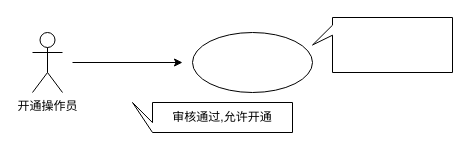
Some shapes in this 470 by 150 pixel diagram are drawn without their labels. Each missing label, with the box of its shape:
审核企业注册材料: (192, 32, 312, 92)
隆庆堂中医股份: (312, 16, 452, 72)
